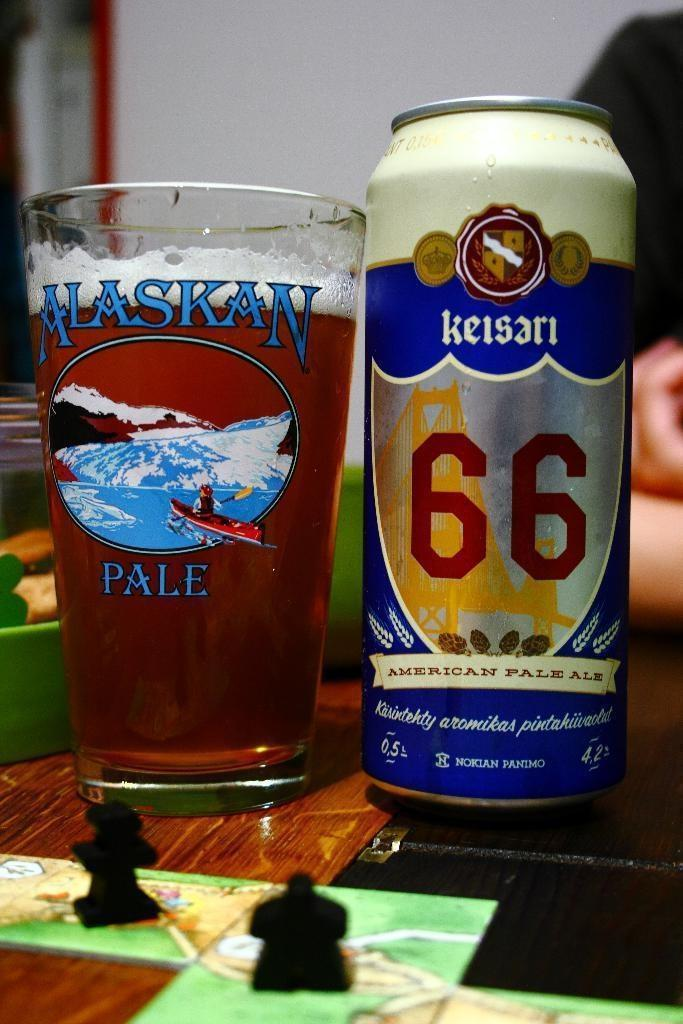glass-normal: (13, 171, 366, 821)
tin can: (367, 95, 635, 807)
